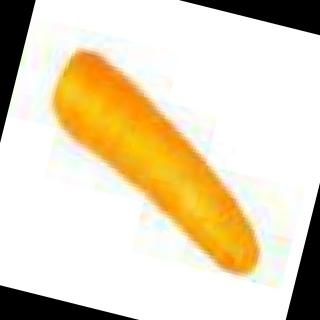Wortel: (1, 30, 306, 300)
